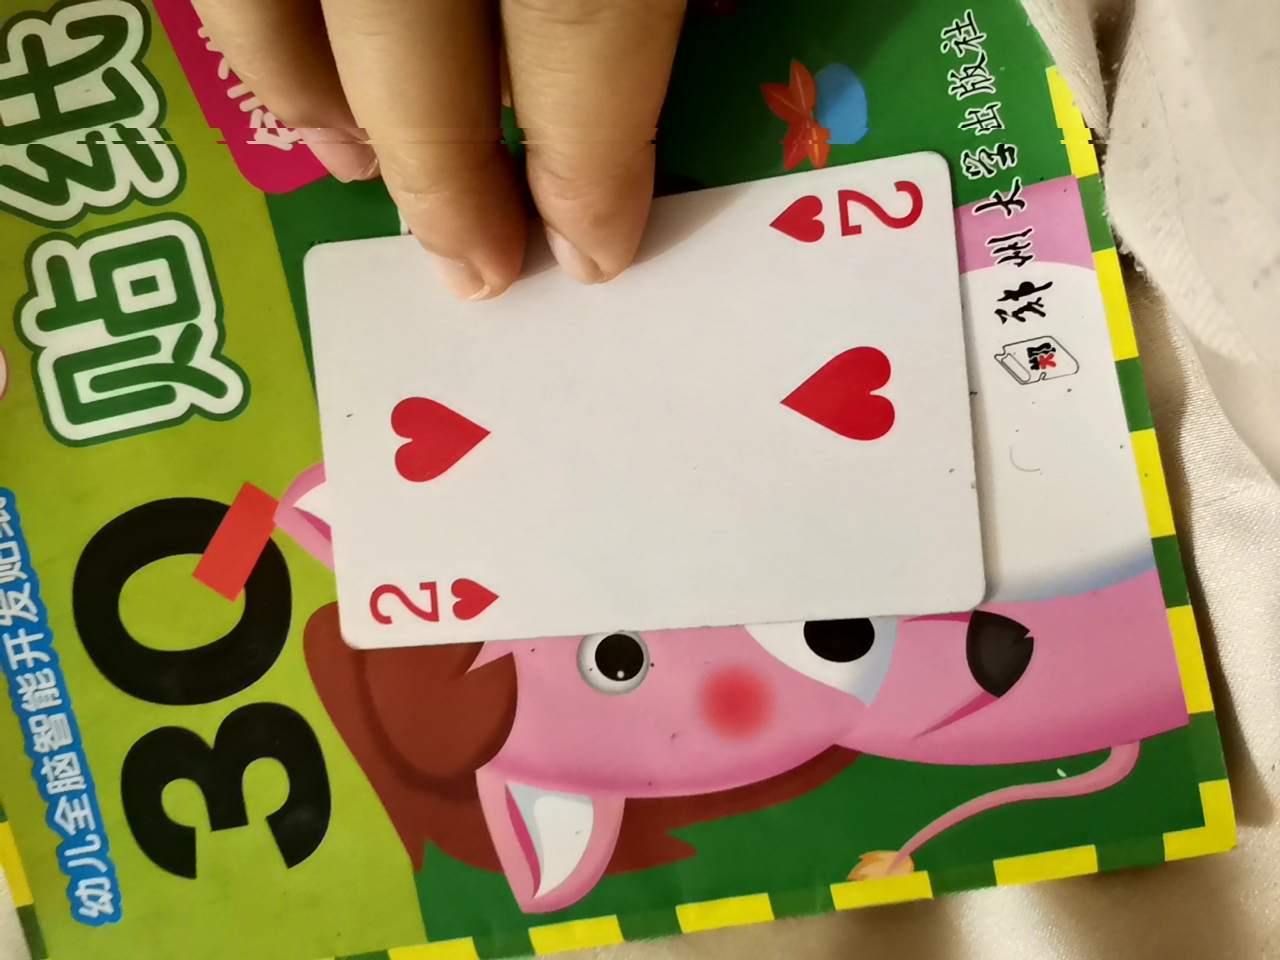hx 2: (273, 171, 989, 691)
